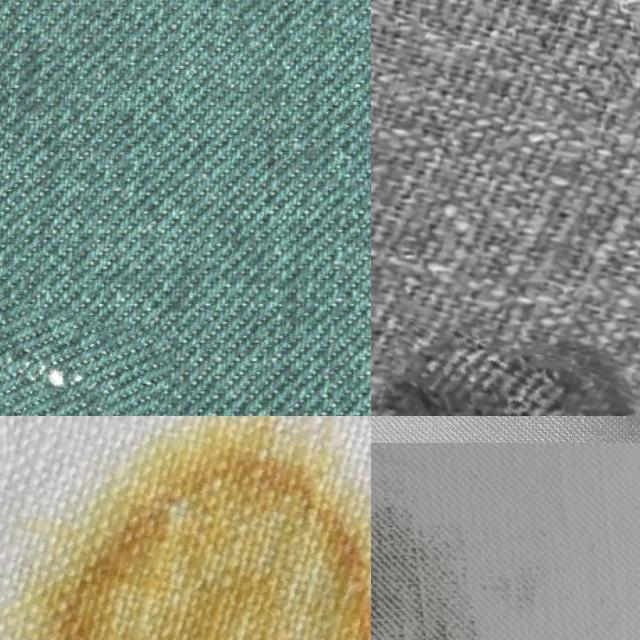Hole: (0, 416, 371, 640), (371, 443, 598, 640)
Thread_other: (0, 300, 170, 416)
seam: (371, 332, 634, 416)
